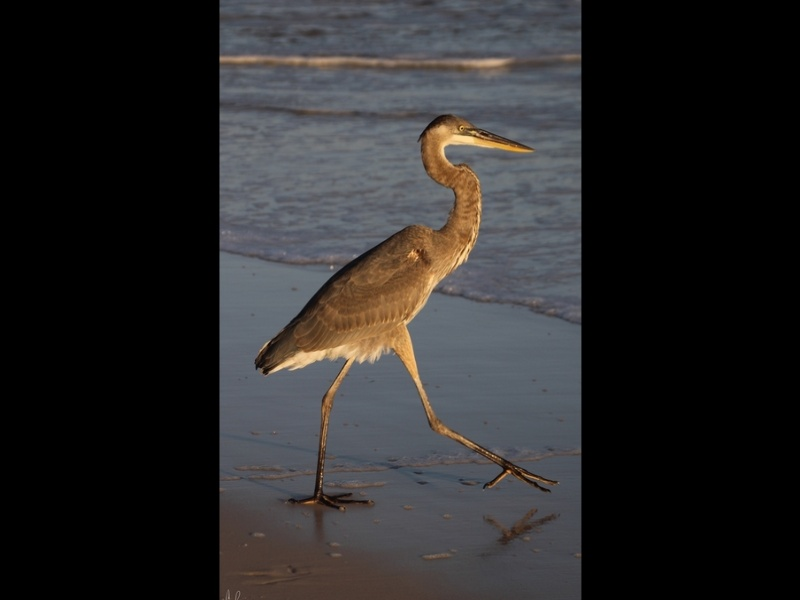heron: (251, 112, 559, 519)
